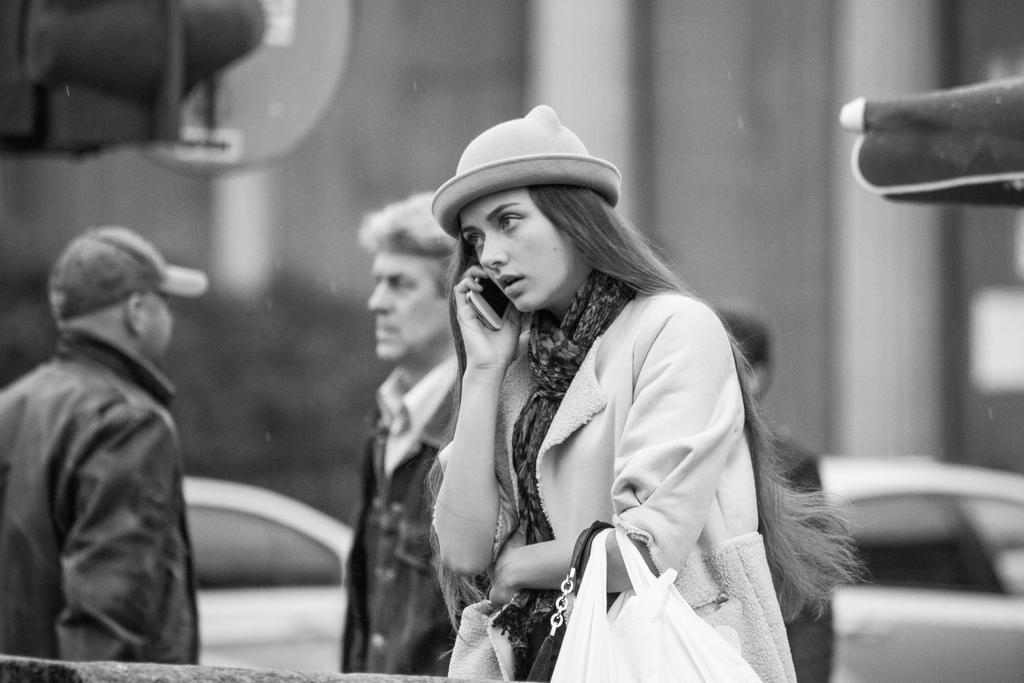Hat: (50, 226, 206, 320)
